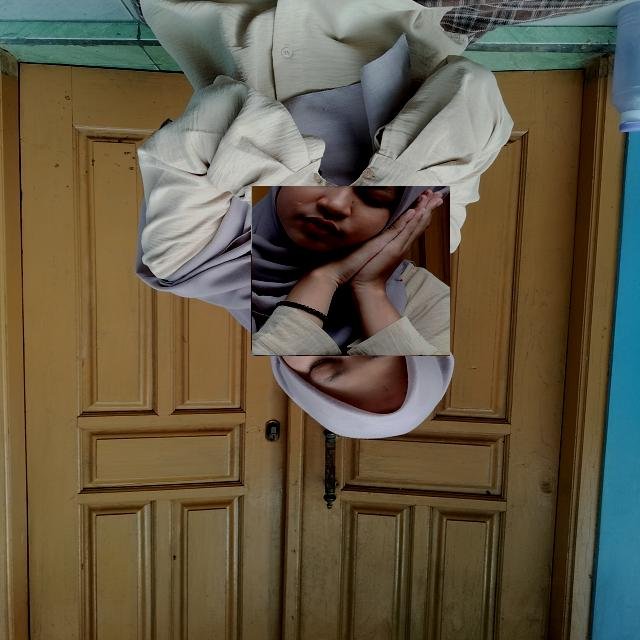tidur: (251, 186, 450, 356)
